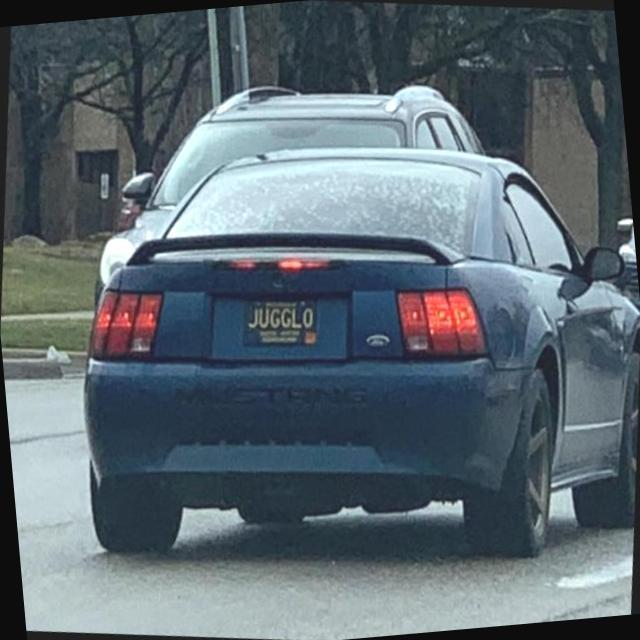license-plate: (229, 289, 336, 355)
